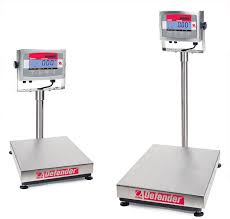Industrial Scale: (114, 9, 224, 218), (7, 47, 96, 192)
